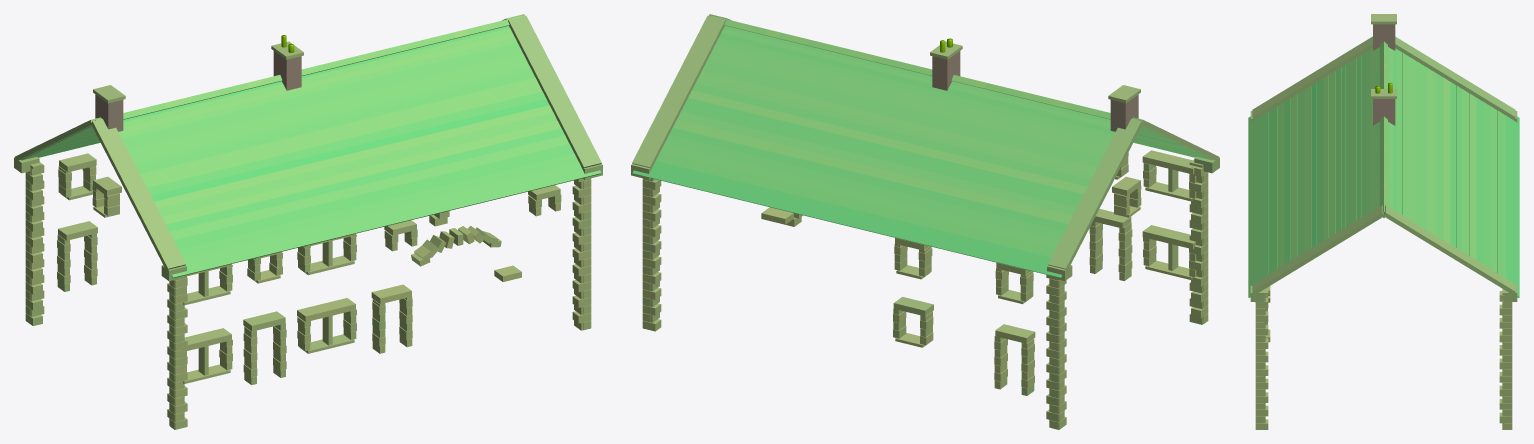
The model's file is SM_Bld_013_Stone.glb.
The picture shows the model from 3 angles, left to right: view 1: azimuth 30°, elevation 25°; view 2: azimuth 150°, elevation 25°; view 3: azimuth 270°, elevation 25°; orthographic projection. The views are drawn at different scales.
Visible parts, largest first — view 1: SM_Bld_013_Stone; view 2: SM_Bld_013_Stone; view 3: SM_Bld_013_Stone.
Boxes of the visible parts, x1,y1,x2,y2 form: SM_Bld_013_Stone: (14,14,602,429); SM_Bld_013_Stone: (631,14,1219,429); SM_Bld_013_Stone: (1248,14,1519,429).
Bounding box in the file's own units: 17.35 × 11.12 × 10.92.
